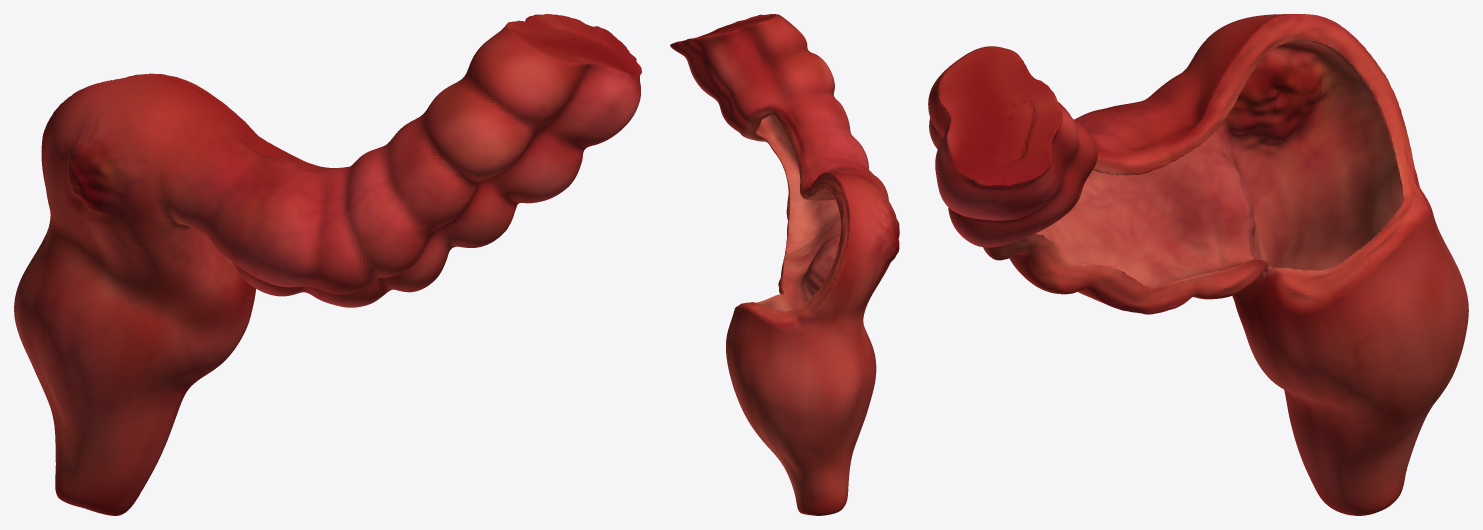
Rendered from stage-4-m-v1.glb.
The picture shows the model from 3 angles, left to right: view 1: azimuth 30°, elevation 25°; view 2: azimuth 150°, elevation 25°; view 3: azimuth 270°, elevation 25°; orthographic projection. The views are drawn at different scales.
Visible parts, largest first — view 1: BOOLEAN COLON HEALTHY; view 2: BOOLEAN COLON HEALTHY; view 3: BOOLEAN COLON HEALTHY.
Part boxes in pixels (<box>): BOOLEAN COLON HEALTHY: <box>14,14,641,515</box>; BOOLEAN COLON HEALTHY: <box>670,14,899,515</box>; BOOLEAN COLON HEALTHY: <box>928,14,1468,515</box>.
Size of the model in its own units: 0.36 by 0.4251 by 0.3558.
1 material, 1 textured.
